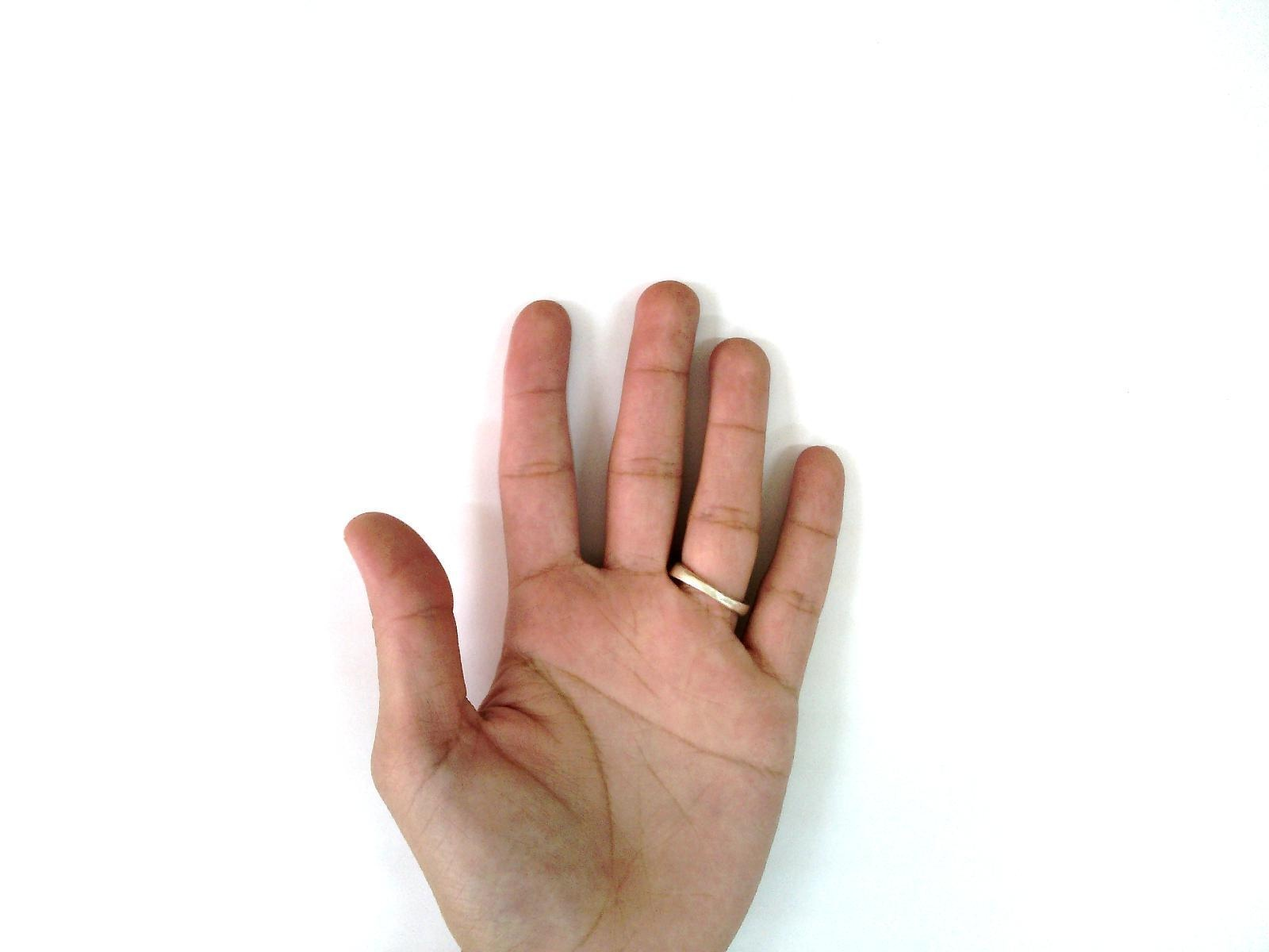open_palm: (342, 279, 849, 951)
